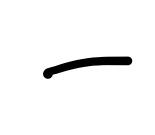minus: (44, 55, 134, 79)
